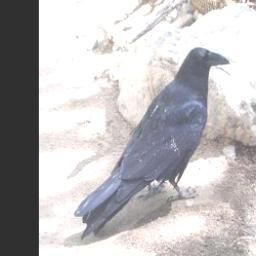Crow: (76, 44, 232, 242)
